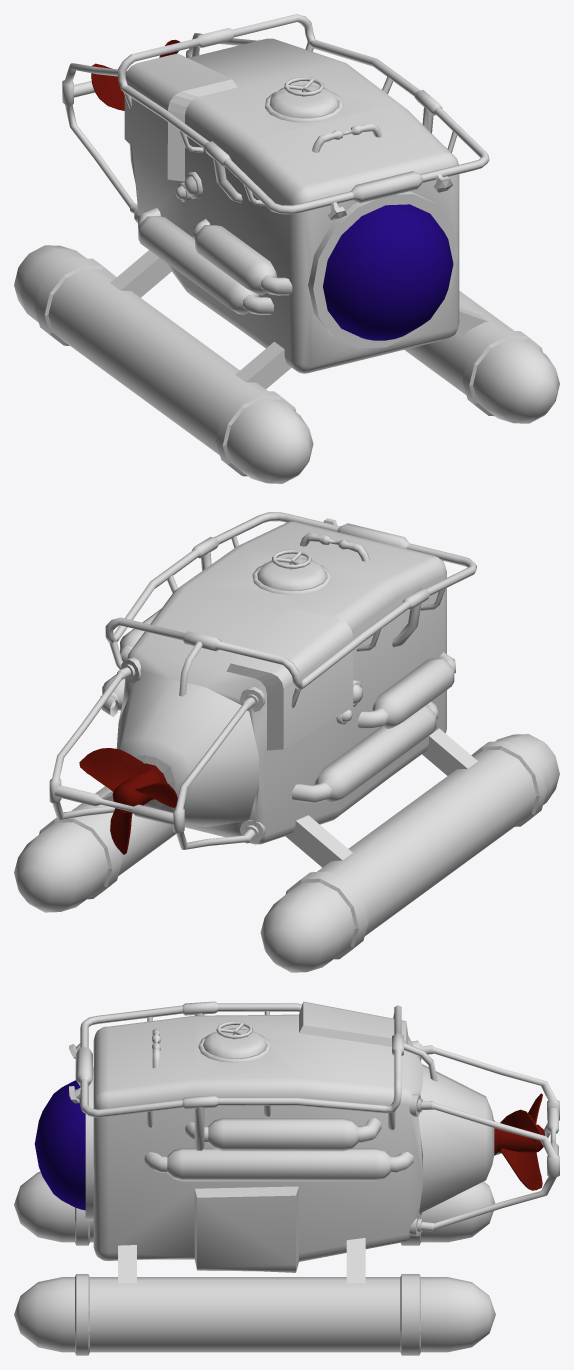
Rendered from Submarine.fbx.
3 renders of one model, top to bottom at view 1: azimuth 30°, elevation 25°; view 2: azimuth 150°, elevation 25°; view 3: azimuth 270°, elevation 25°, orthographic. The views are drawn at different scales.
Parts seen in each view (by area): view 1: Object001, Object003, Box003; view 2: Object001, Box003; view 3: Object001, Object003, Box003.
Part boxes in pixels (x1,y1,x2,y2): Object001: [14, 14, 559, 483]; Object003: [323, 204, 453, 340]; Box003: [91, 39, 179, 110]; Object001: [14, 512, 559, 972]; Box003: [79, 748, 177, 854]; Object001: [14, 1001, 559, 1355]; Object003: [34, 1080, 85, 1210]; Box003: [494, 1093, 544, 1190].
Bounding box in the file's own units: 226 × 198 × 361.
